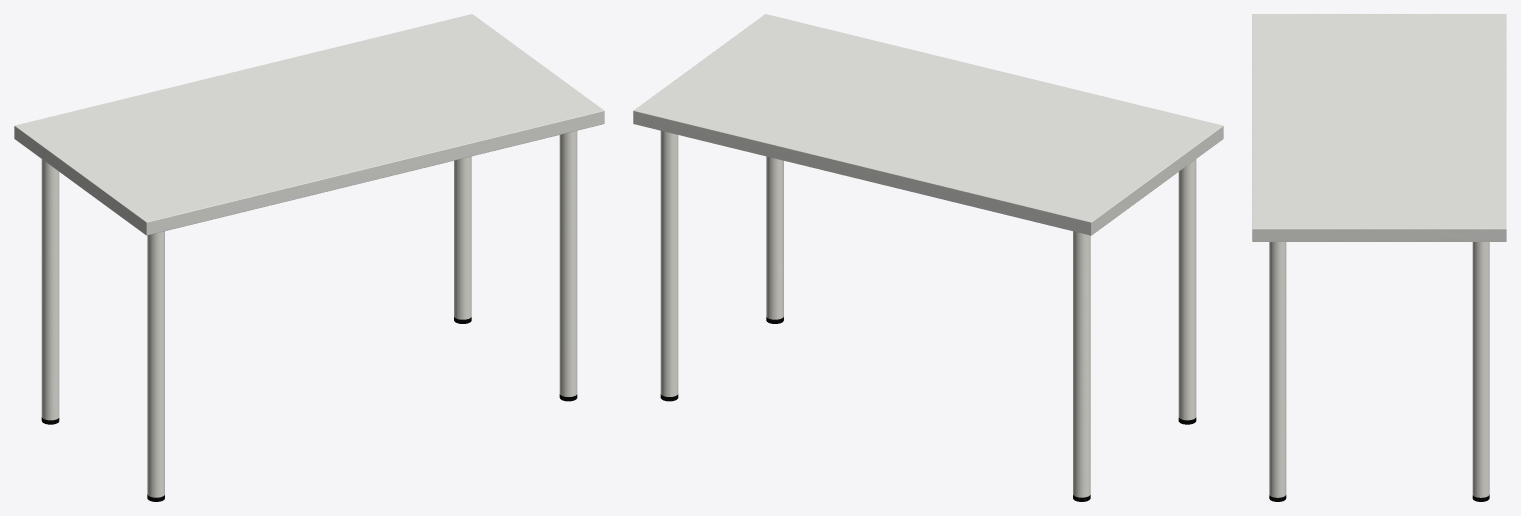
3 renders of one model, left to right at view 1: azimuth 30°, elevation 25°; view 2: azimuth 150°, elevation 25°; view 3: azimuth 270°, elevation 25°, orthographic. The views are drawn at different scales.
Parts seen in each view (by area): view 1: Mesh_0; view 2: Mesh_0; view 3: Mesh_0.
Boxes of the visible parts, x1,y1,x2,y2 form: Mesh_0: (14,14,604,501); Mesh_0: (633,14,1223,501); Mesh_0: (1252,14,1506,501).
Bounding box in the file's own units: 1.2 × 0.73 × 0.6001.
1 material, 1 textured.
